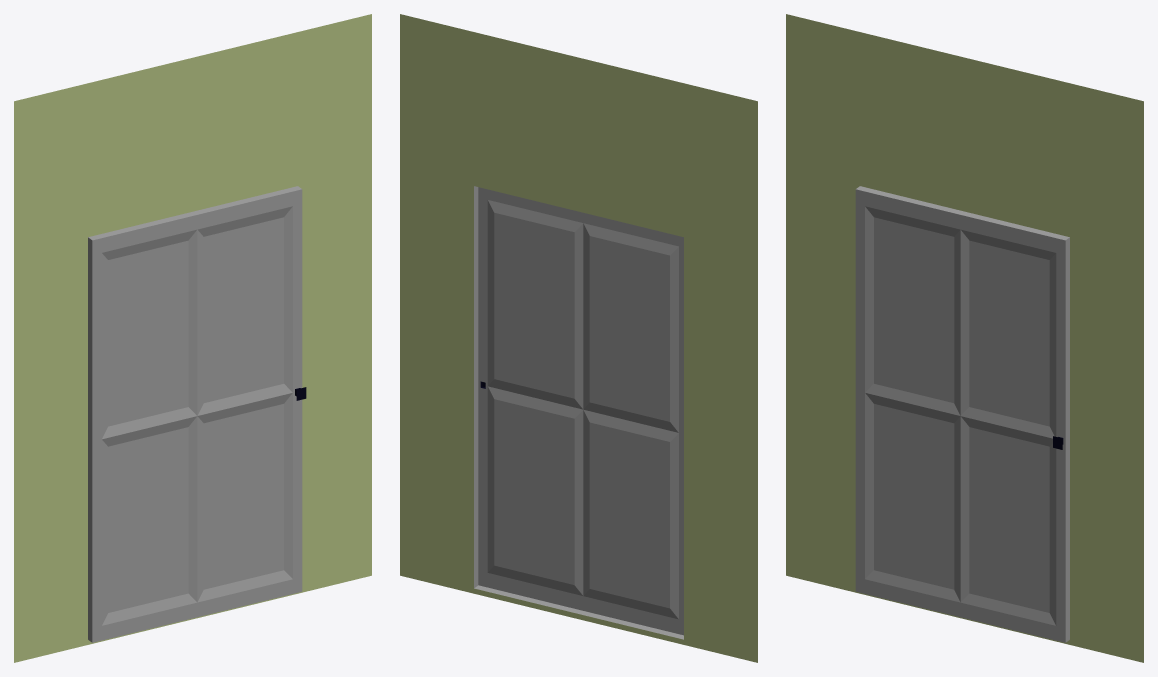
Rendered from Residential_Door_2x3.obj.
3 renders of one model, left to right at view 1: azimuth 30°, elevation 25°; view 2: azimuth 150°, elevation 25°; view 3: azimuth 330°, elevation 25°, orthographic.
Parts seen in each view (by area): view 1: ResidentialDoor_2x3; view 2: ResidentialDoor_2x3; view 3: ResidentialDoor_2x3.
Boxes of the visible parts, x1,y1,x2,y2 form: ResidentialDoor_2x3: [14, 14, 371, 662]; ResidentialDoor_2x3: [400, 14, 757, 662]; ResidentialDoor_2x3: [786, 14, 1143, 662].
Size of the model in its own units: 2 by 3 by 0.0753.
